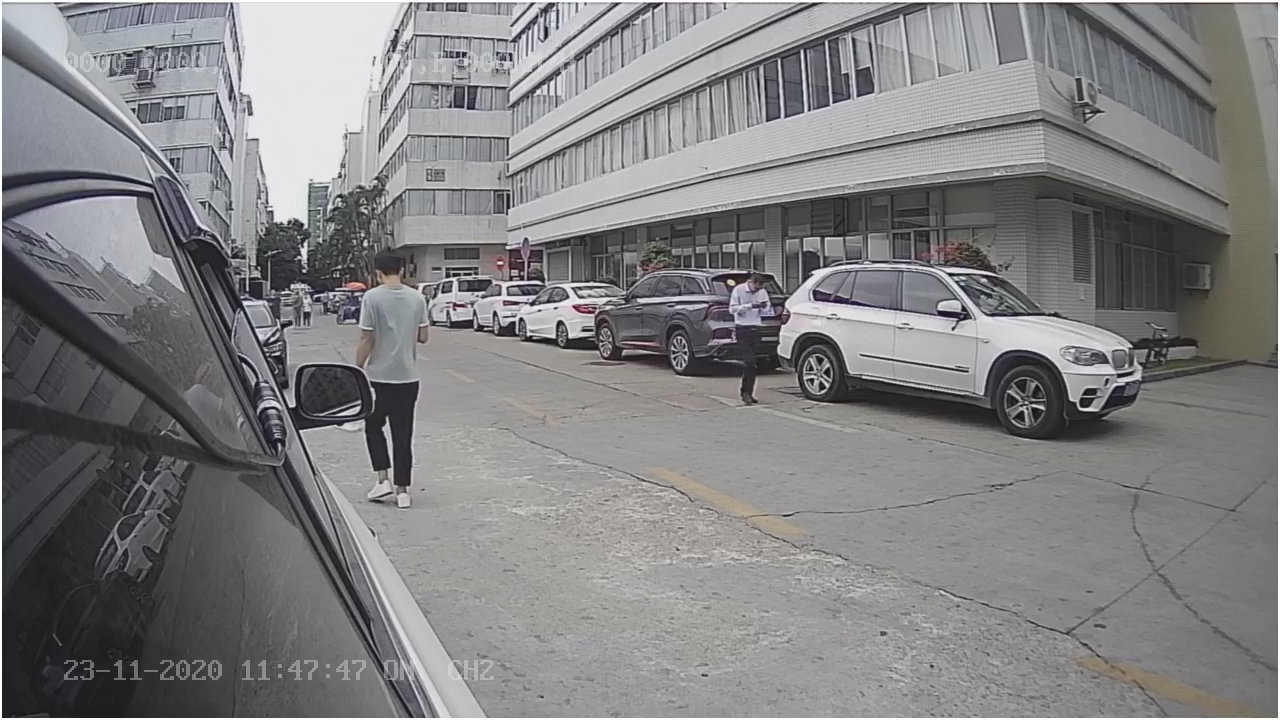person: (719, 269, 775, 411), (359, 244, 429, 349)
